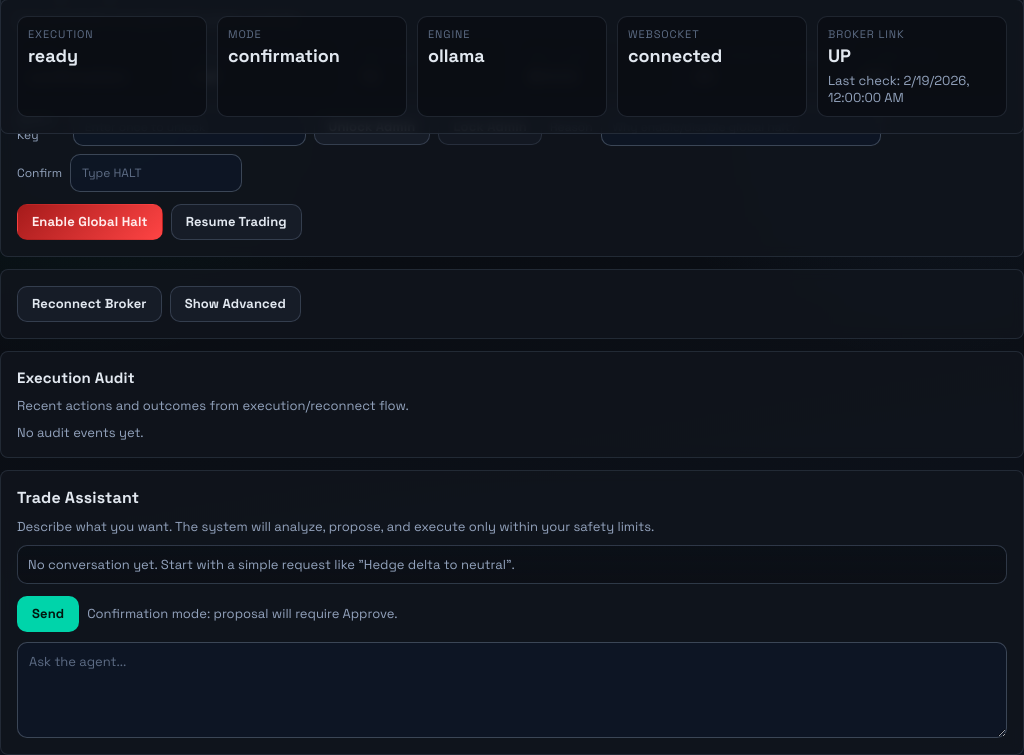
Test: AgentConsolePage › creates proposal from chat and approves it
The image size is (1024, 755).
(page scrolled)
Check: the heading "Trade Assistant" is shown, box left=17, top=486, right=139, bottom=508
Type "hedge delta" into the text box with placeholder "Ask the agent..." at (512,690), box left=17, top=642, right=1007, bottom=738
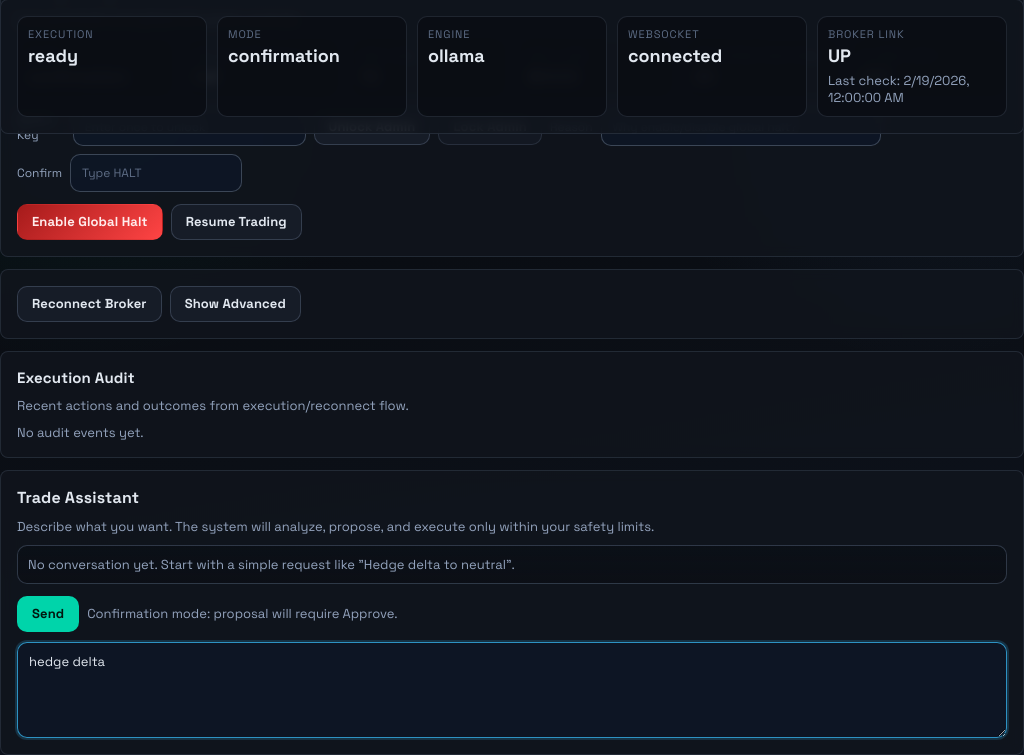
Click the button "Send" at (48,614), box left=17, top=596, right=79, bottom=632
(page scrolled)
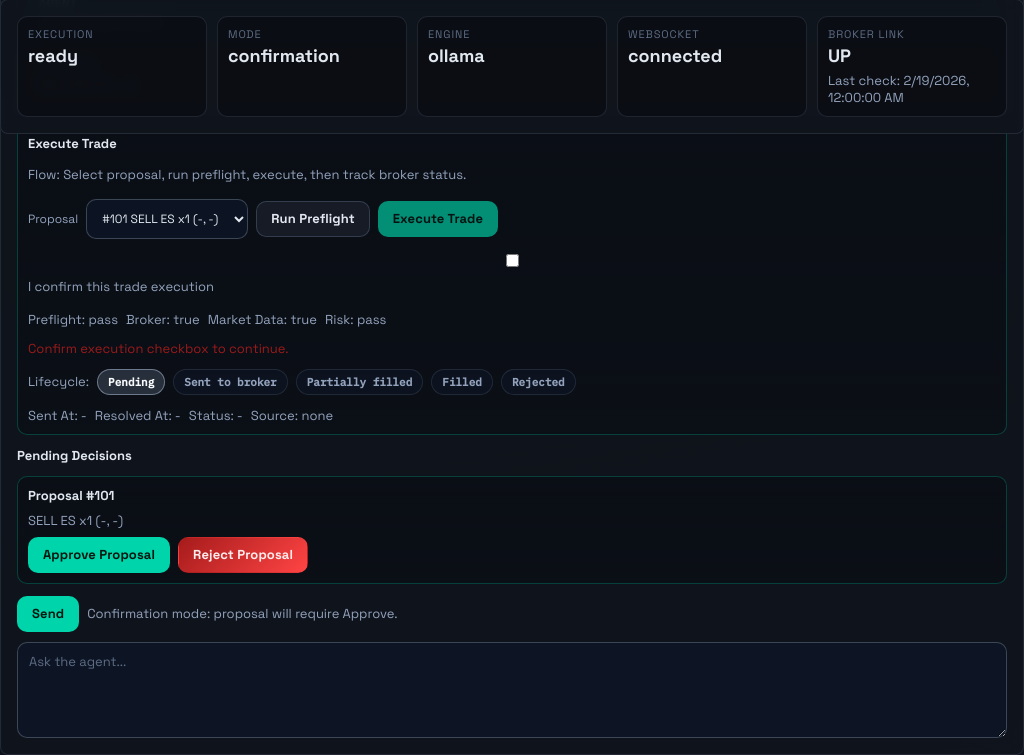
Check: the text "Proposal #101" is shown, box left=28, top=486, right=114, bottom=504
Click the button with test id "approve-proposal-101" at (99,554), box left=28, top=536, right=170, bottom=572
(page scrolled)
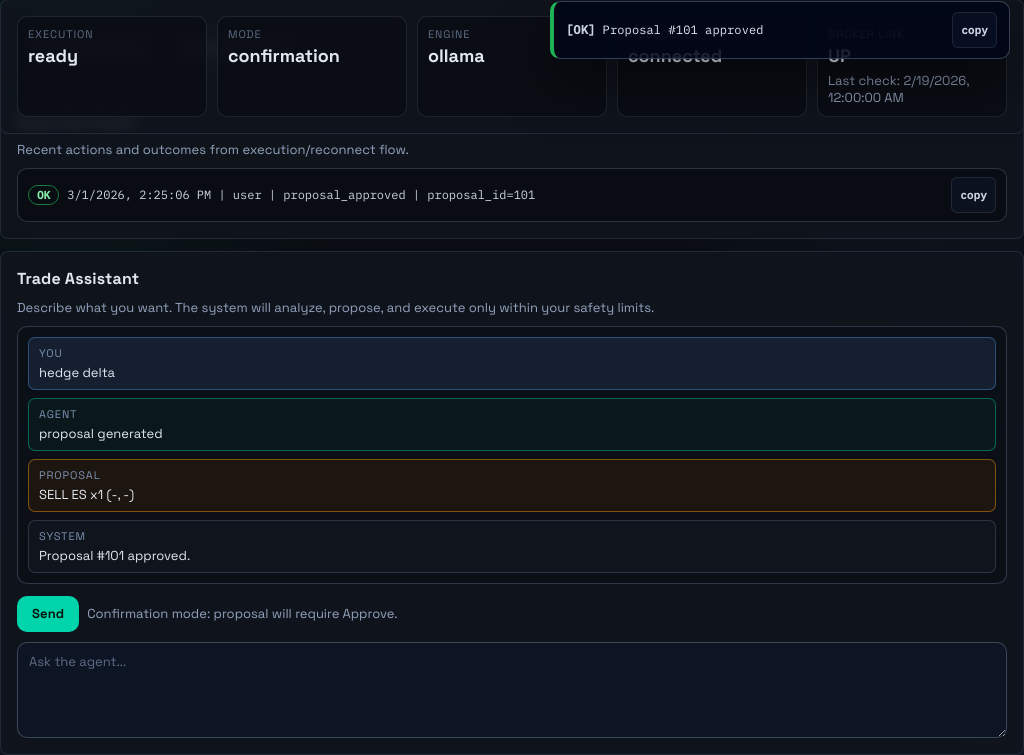
Check: the text "Proposal #101 approved." is shown, box left=39, top=546, right=190, bottom=564
